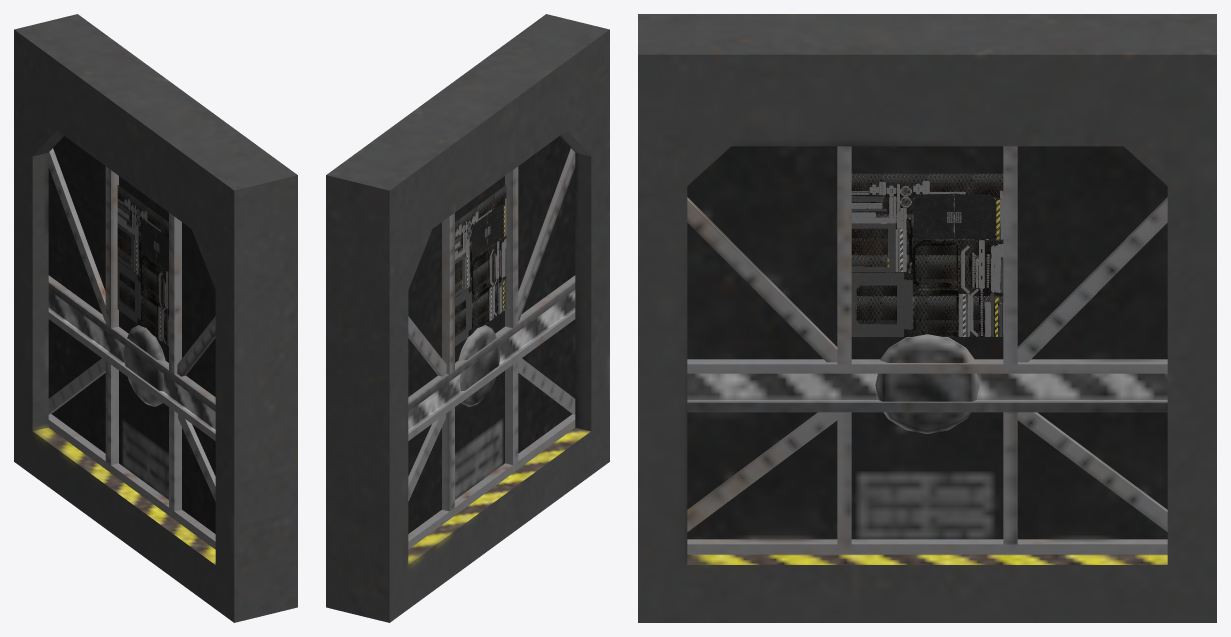
Rendered from qe_containment_door.obj.
The picture shows the model from 3 angles, left to right: view 1: azimuth 30°, elevation 25°; view 2: azimuth 150°, elevation 25°; view 3: azimuth 270°, elevation 25°; orthographic projection. The views are drawn at different scales.
Visible parts, largest first — view 1: frame, door, decal; view 2: frame, door, decal; view 3: door, frame, decal.
Boxes of the visible parts, box(x1,y1,x2,y2) form: frame: box(14, 14, 297, 622); door: box(48, 136, 215, 549); decal: box(117, 185, 168, 346); frame: box(326, 14, 609, 622); door: box(408, 136, 575, 549); decal: box(455, 185, 506, 346); door: box(687, 146, 1167, 554); frame: box(638, 14, 1216, 622); decal: box(851, 173, 1003, 336).
Size of the model in its own units: 0.5 by 3.25 by 3.
